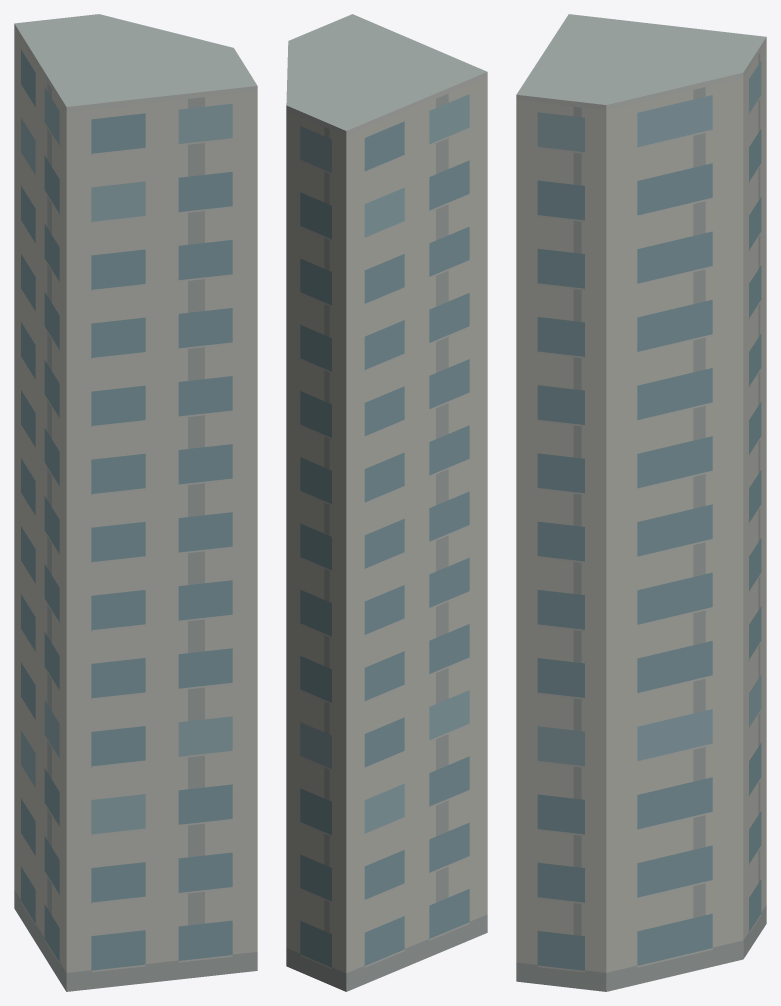
Rendered from survey-upis-32875232.glb.
3 renders of one model, left to right at view 1: azimuth 30°, elevation 25°; view 2: azimuth 150°, elevation 25°; view 3: azimuth 270°, elevation 25°, orthographic. The views are drawn at different scales.
Parts seen in each view (by area): view 1: survey-upis-32875232.tmp; view 2: survey-upis-32875232.tmp; view 3: survey-upis-32875232.tmp.
Boxes of the visible parts, bbox=[...] form: survey-upis-32875232.tmp: bbox=[14, 14, 257, 991]; survey-upis-32875232.tmp: bbox=[286, 14, 487, 991]; survey-upis-32875232.tmp: bbox=[516, 14, 766, 991].
Bounding box in the file's own units: 8.74 × 39.65 × 10.15.
